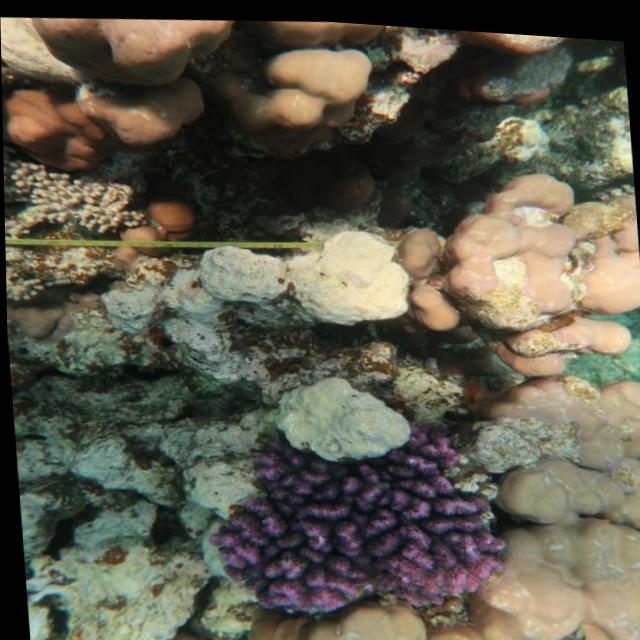Healthy Coral: (208, 409, 505, 622)
